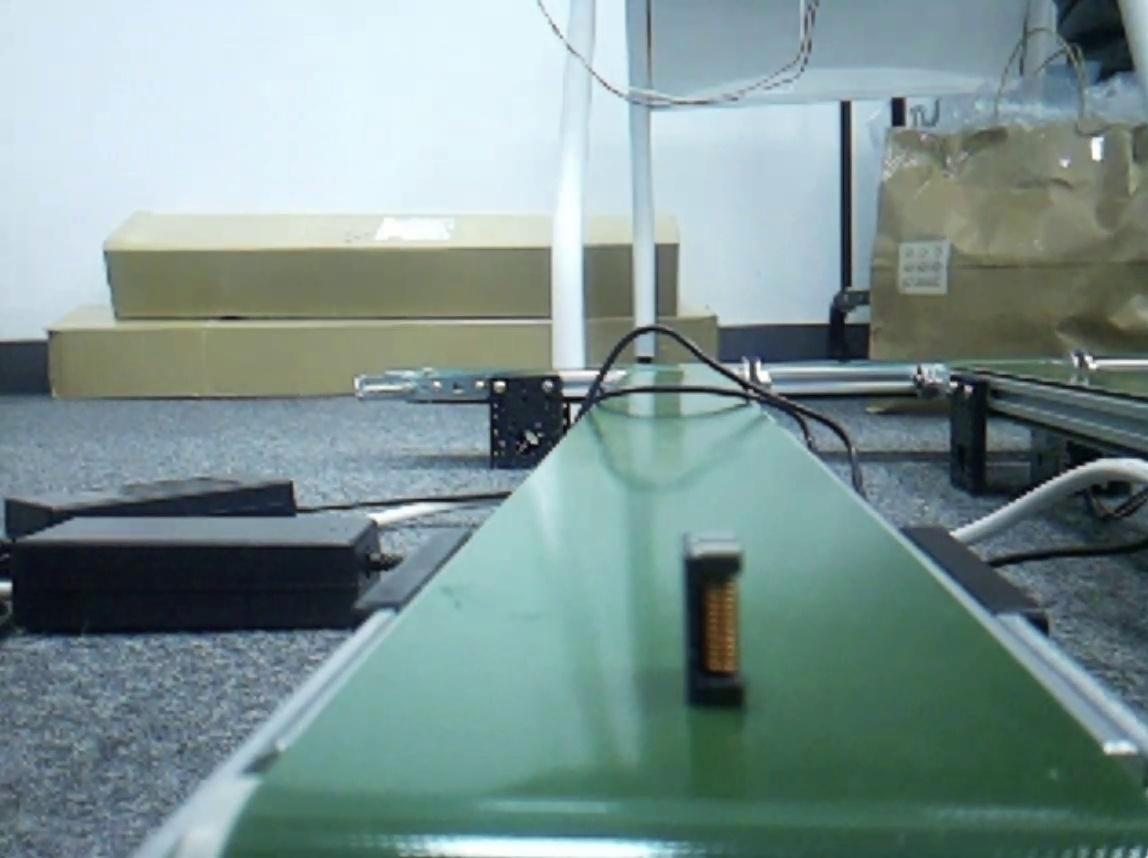inductor: (687, 532, 747, 710)
